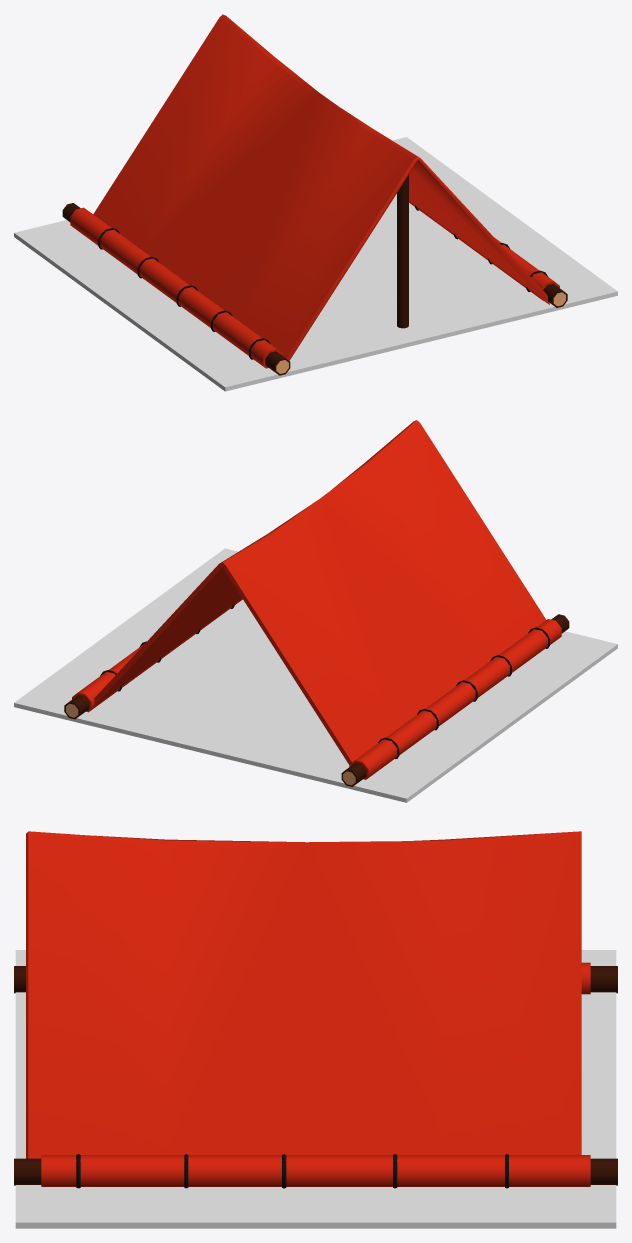
The model's file is Tent.fbx.
3 views of the same model, one above another, from view 1: azimuth 30°, elevation 25°; view 2: azimuth 150°, elevation 25°; view 3: azimuth 270°, elevation 25° (orthographic). The views are drawn at different scales.
Visible parts, largest first — view 1: Cylinder005, Box003; view 2: Cylinder005, Box003; view 3: Cylinder005, Box003.
Boxes of the visible parts, x1,y1,x2,y2 form: Cylinder005: (62,14,567,375); Box003: (14,137,617,391); Cylinder005: (64,420,569,786); Box003: (14,548,617,802); Cylinder005: (14,831,617,1188); Box003: (15,950,616,1228).
Size of the model in its own units: 58.08 by 26.07 by 54.37.
